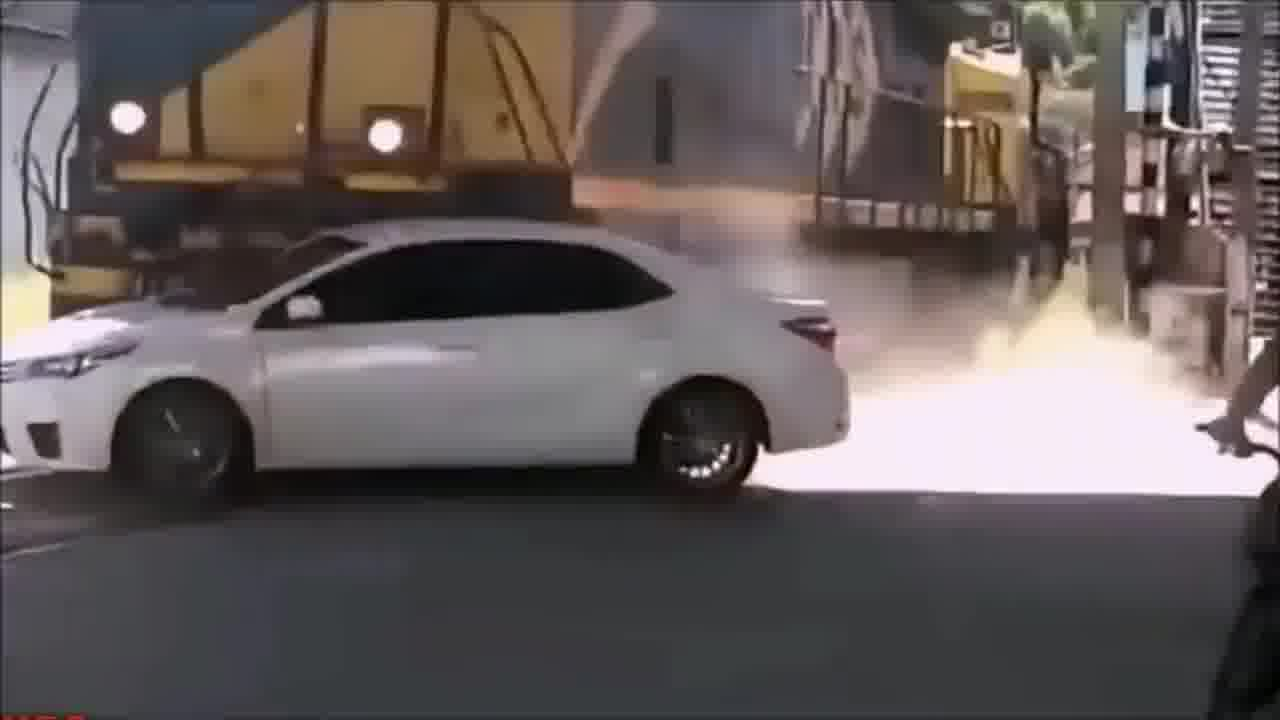crossing railway track: (5, 202, 892, 509)
